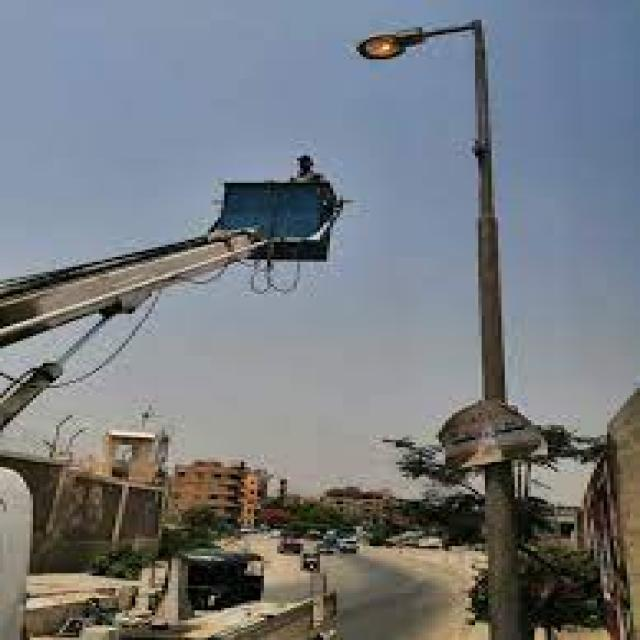Street Light: (356, 17, 524, 640)
